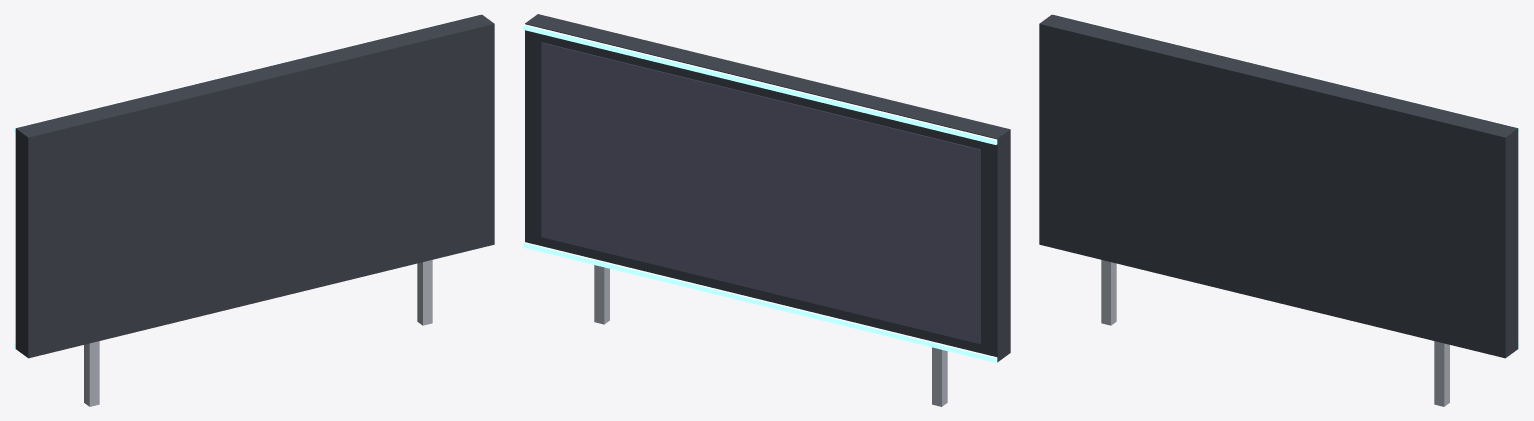
The model's file is scorebord.glb.
3 views of the same model, side by side, from view 1: azimuth 30°, elevation 25°; view 2: azimuth 150°, elevation 25°; view 3: azimuth 330°, elevation 25° (orthographic).
Visible parts, largest first — view 1: Scorebord; view 2: Scorebord; view 3: Scorebord.
Part boxes in pixels (<box>): Scorebord: <box>14,14,494,406</box>; Scorebord: <box>523,14,1010,406</box>; Scorebord: <box>1039,14,1519,406</box>.
Bounding box in the file's own units: 16.8 × 9.8 × 0.89.
